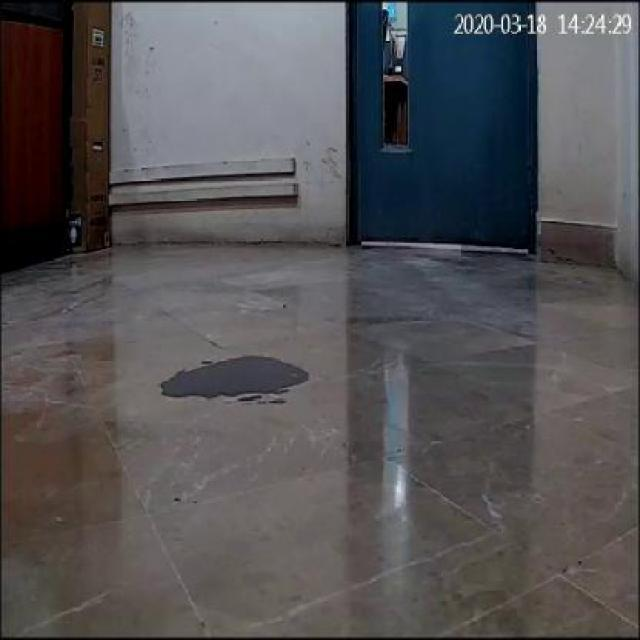spill: (156, 352, 306, 406)
